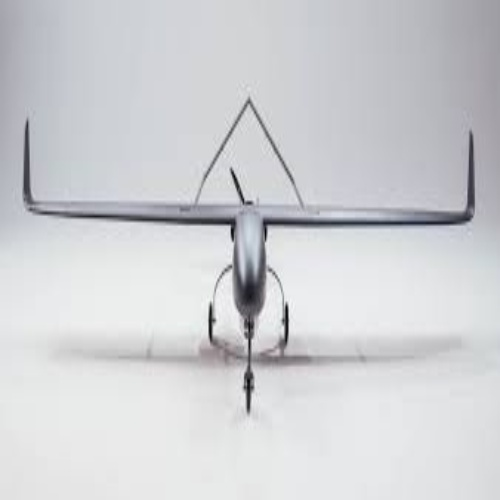uav690: (17, 92, 478, 418)
